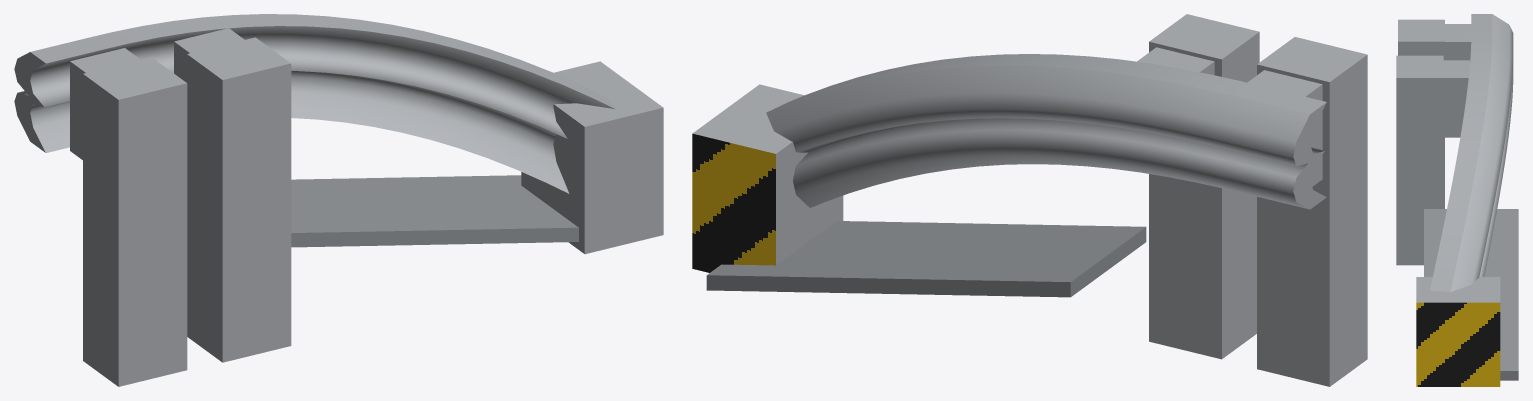
Rendered from guardrail_end_terminal_inv.obj.
The picture shows the model from 3 angles, left to right: view 1: azimuth 30°, elevation 25°; view 2: azimuth 150°, elevation 25°; view 3: azimuth 270°, elevation 25°; orthographic projection. The views are drawn at different scales.
Visible parts, largest first — view 1: guardrail_end_terminal_inv; view 2: guardrail_end_terminal_inv; view 3: guardrail_end_terminal_inv.
Boxes of the visible parts, bbox=[...] form: guardrail_end_terminal_inv: bbox=[14, 14, 663, 386]; guardrail_end_terminal_inv: bbox=[692, 14, 1367, 386]; guardrail_end_terminal_inv: bbox=[1396, 14, 1518, 386].
Size of the model in its own units: 0.9375 by 0.4464 by 0.26.
